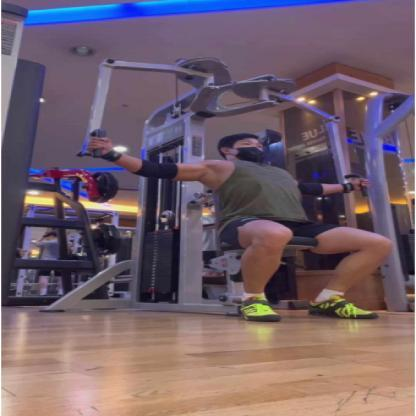chest fly machine: (34, 42, 416, 329)
